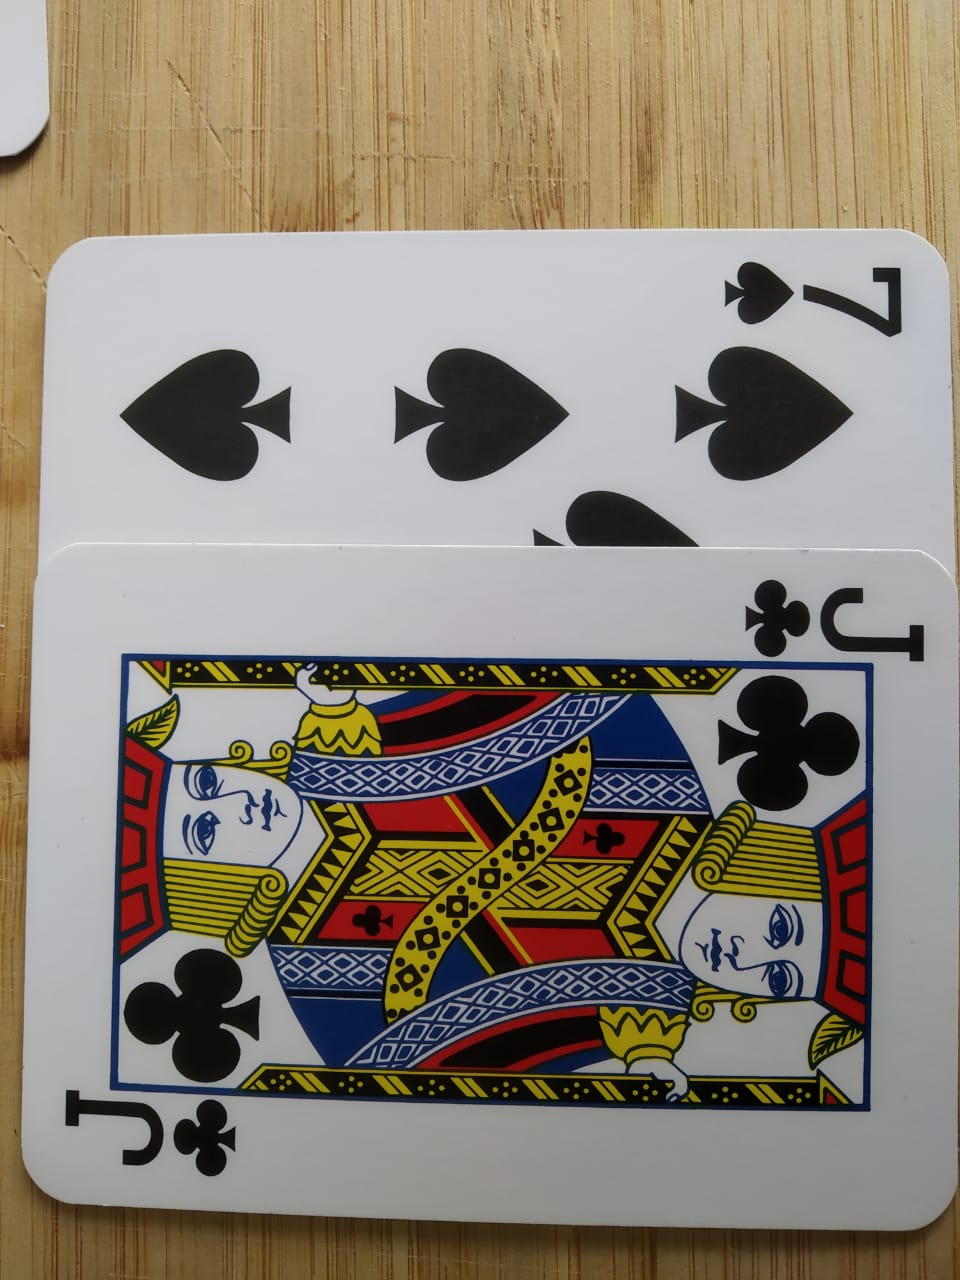jack: (32, 560, 960, 1241)
seven: (12, 221, 960, 799)
